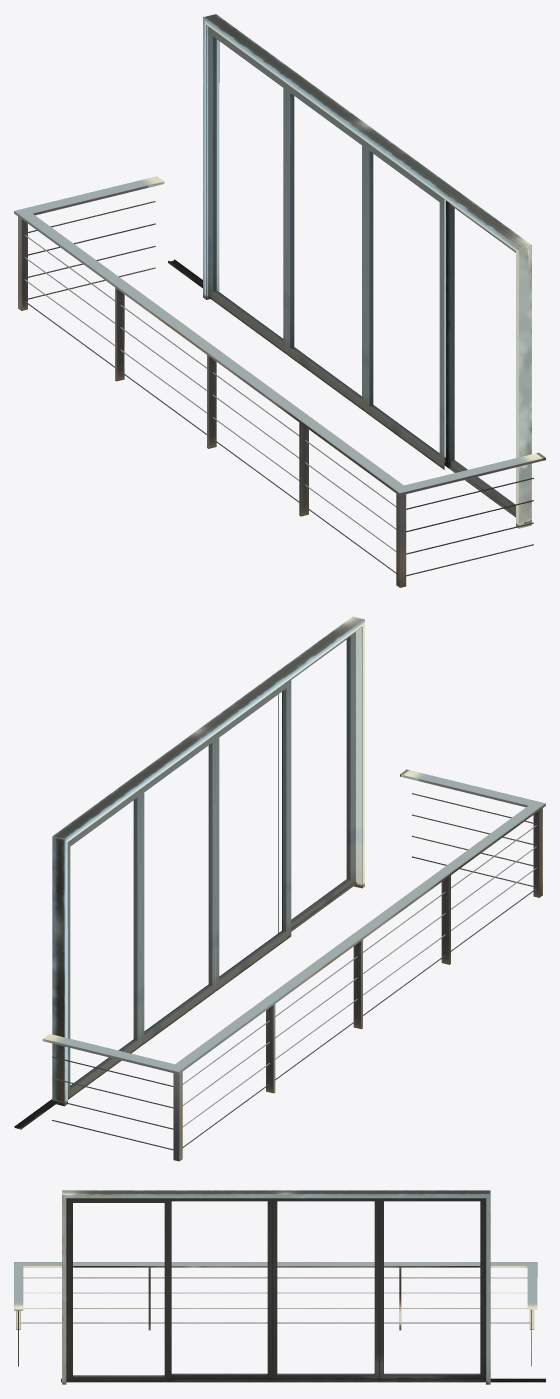
File: DoorGlass.glb
3 renders of one model, top to bottom at view 1: azimuth 30°, elevation 25°; view 2: azimuth 150°, elevation 25°; view 3: azimuth 270°, elevation 25°, orthographic. The views are drawn at different scales.
Parts seen in each view (by area): view 1: SM_PaintingsWindow_Rails_surfaceShader11_0; view 2: SM_PaintingsWindow_Rails_surfaceShader11_0; view 3: SM_PaintingsWindow_Rails_surfaceShader11_0.
Part boxes in pixels (x1=…): SM_PaintingsWindow_Rails_surfaceShader11_0: x1=14, y1=14, x2=545, y2=587; SM_PaintingsWindow_Rails_surfaceShader11_0: x1=14, y1=616, x2=545, y2=1161; SM_PaintingsWindow_Rails_surfaceShader11_0: x1=14, y1=1190, x2=545, y2=1384.
Size of the model in its own units: 1.4 by 2.24 by 5.68.
Materials: 1 (1 with a texture image).
